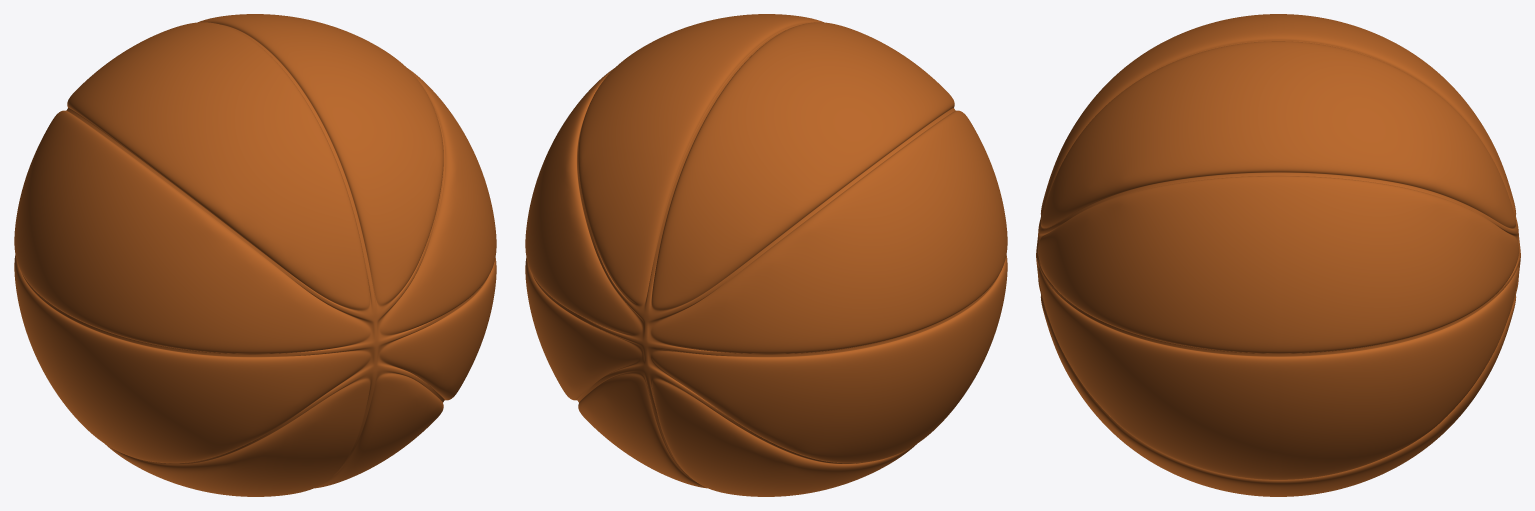
The model's file is ball.glb.
3 renders of one model, left to right at view 1: azimuth 30°, elevation 25°; view 2: azimuth 150°, elevation 25°; view 3: azimuth 270°, elevation 25°, orthographic.
Visible parts, largest first — view 1: Object_2, Object_3; view 2: Object_2, Object_3; view 3: Object_2, Object_3.
Boxes of the visible parts, x1,y1,x2,y2 form: Object_2: (14, 14, 496, 496); Object_3: (54, 22, 406, 373); Object_2: (525, 14, 1007, 496); Object_3: (573, 22, 1002, 373); Object_2: (1036, 14, 1520, 496); Object_3: (1037, 39, 1519, 357).
Size of the model in its own units: 0.2723 by 0.2723 by 0.2751.
